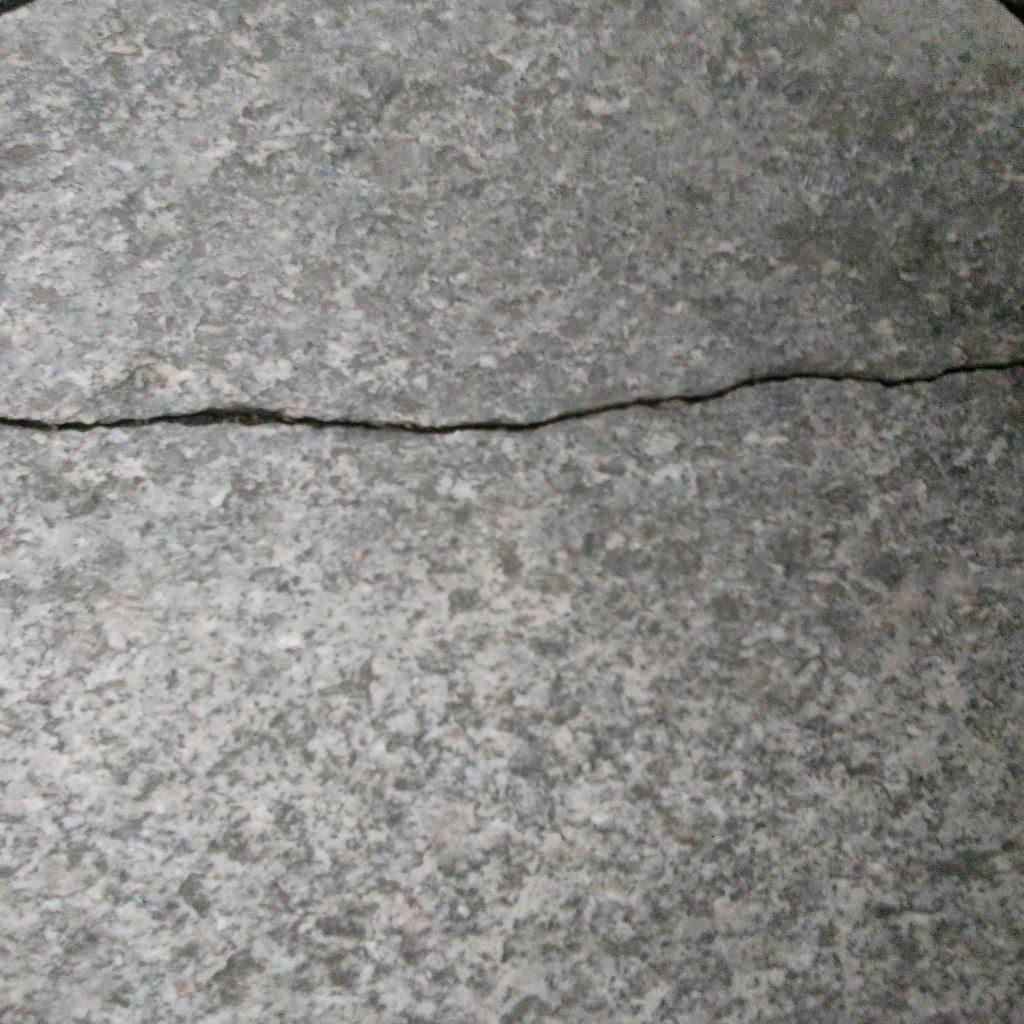Crack: (1, 357, 1024, 437)
